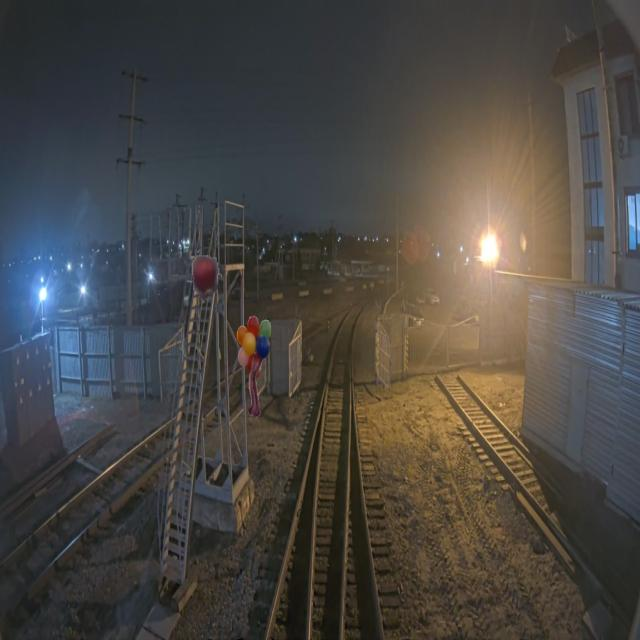balloon: (185, 250, 223, 314), (236, 316, 272, 380)
floating object: (248, 354, 263, 418)
